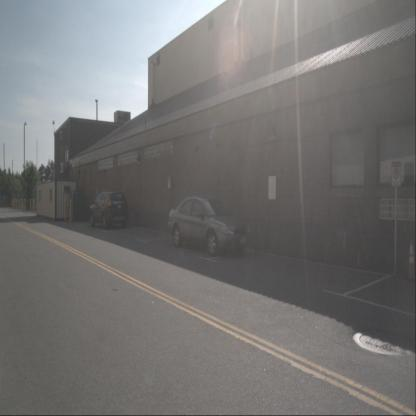cone: (406, 238, 416, 284)
